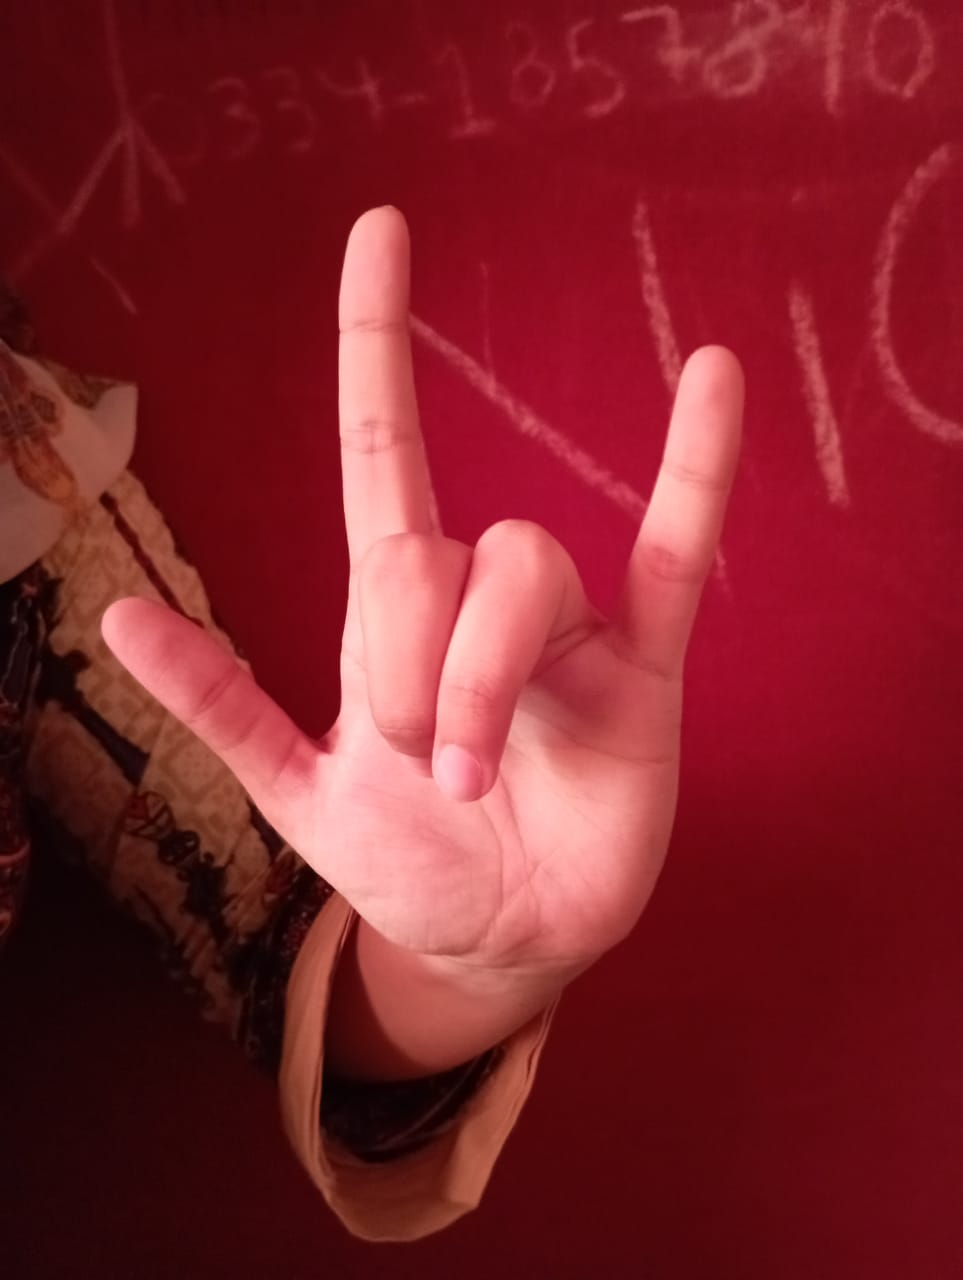Loved It: (80, 186, 780, 1015)
